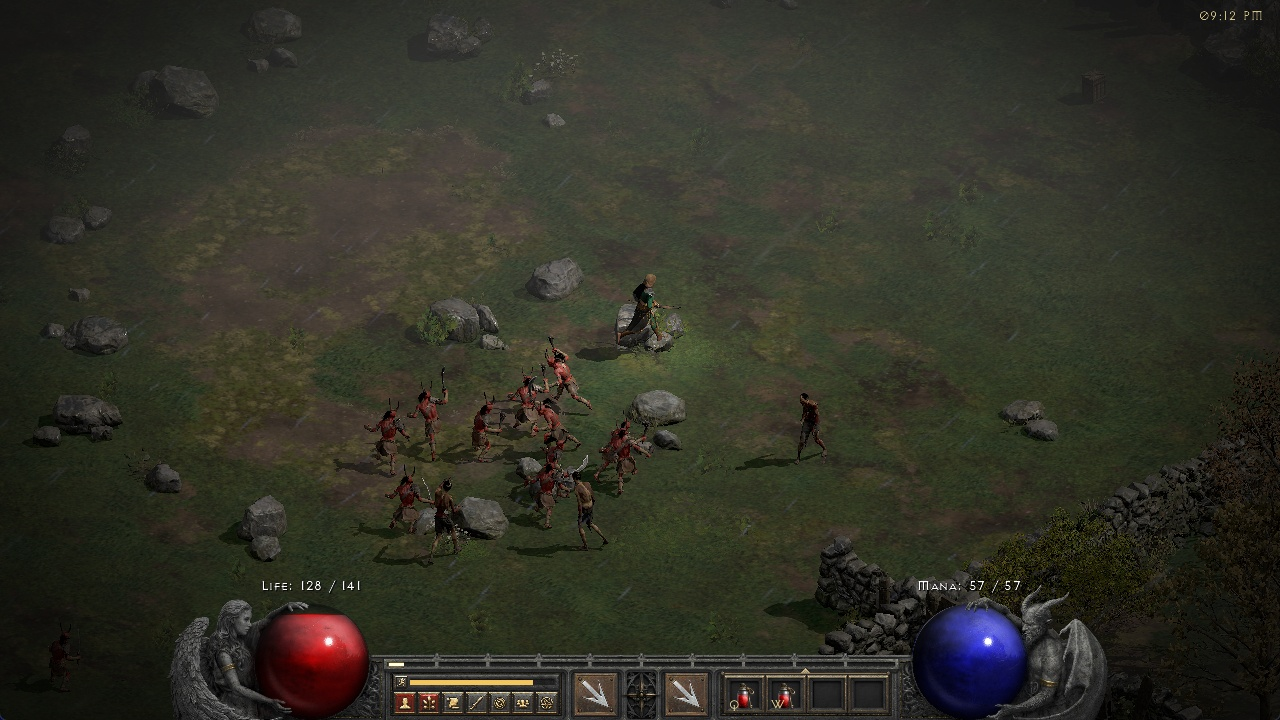fallen: (416, 369, 451, 451), (43, 624, 83, 692), (388, 471, 430, 534), (471, 399, 512, 459), (370, 406, 410, 463), (539, 344, 587, 391), (535, 472, 570, 528), (536, 402, 577, 446), (507, 374, 536, 416), (612, 438, 643, 476), (613, 417, 641, 435)
